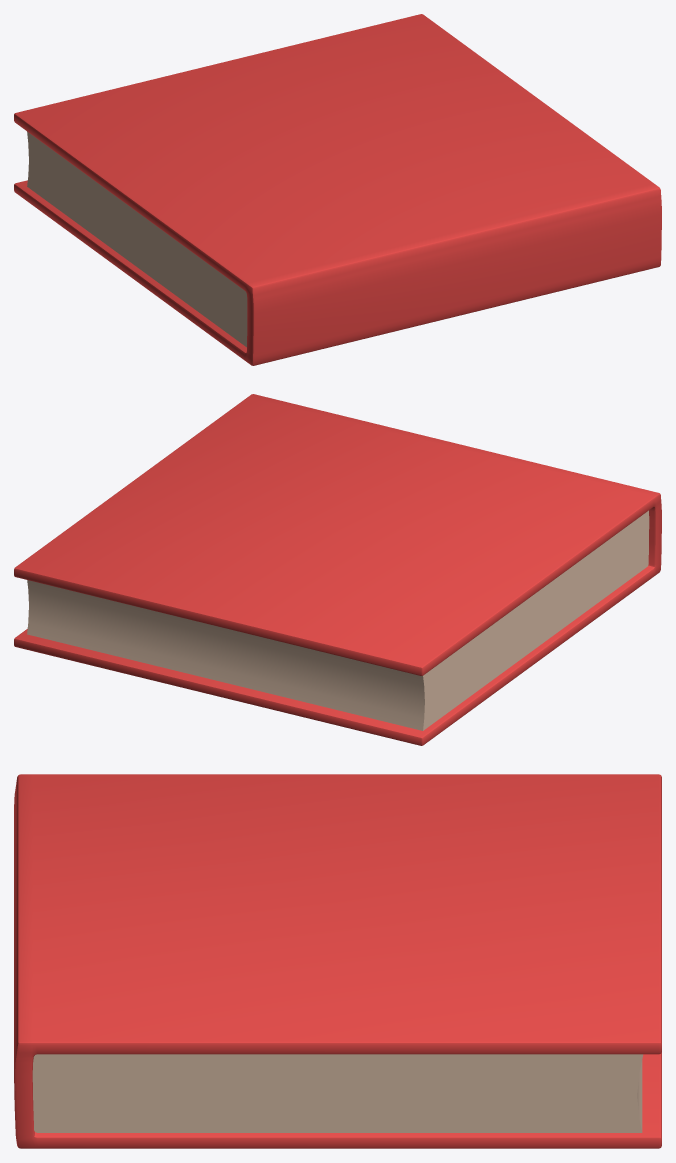
The model's file is SM_BookClose.fbx.
3 views of the same model, one above another, from view 1: azimuth 30°, elevation 25°; view 2: azimuth 150°, elevation 25°; view 3: azimuth 270°, elevation 25° (orthographic). The views are drawn at different scales.
Visible parts, largest first — view 1: Cube.007, Cube.008; view 2: Cube.007, Cube.008; view 3: Cube.007, Cube.008.
Part boxes in pixels (x1=…): Cube.007: x1=14, y1=14, x2=661, y2=365; Cube.008: x1=27, y1=131, x2=247, y2=347; Cube.007: x1=14, y1=394, x2=661, y2=745; Cube.008: x1=27, y1=510, x2=649, y2=730; Cube.007: x1=14, y1=774, x2=661, y2=1148; Cube.008: x1=32, y1=1054, x2=643, y2=1132.
Size of the model in its own units: 238 by 44.16 by 242.
